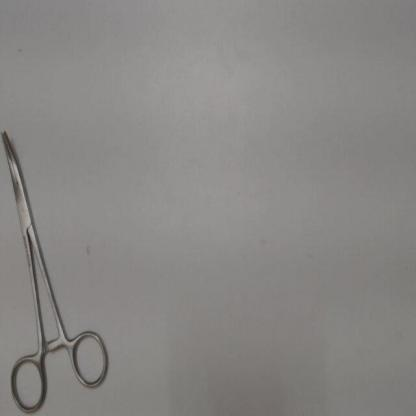Crile Artery Forceps: (1, 122, 112, 414)
